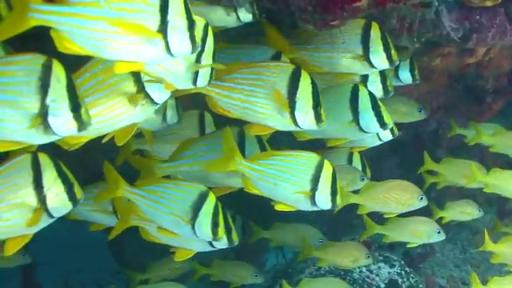Fish: (0, 0, 199, 63), (173, 61, 325, 134), (96, 162, 231, 240), (58, 59, 170, 149), (0, 53, 91, 151), (130, 127, 269, 191), (0, 152, 83, 255), (109, 198, 238, 261), (115, 16, 223, 91), (264, 19, 399, 74), (232, 151, 341, 211), (294, 84, 393, 143), (120, 110, 215, 160), (140, 227, 238, 261), (342, 180, 427, 217), (360, 216, 446, 247), (65, 181, 118, 230), (419, 152, 487, 189), (316, 148, 371, 191), (311, 71, 394, 98), (190, 0, 259, 31), (249, 223, 326, 250), (298, 241, 372, 268), (326, 124, 399, 151), (193, 260, 264, 287), (128, 256, 191, 285), (216, 43, 288, 66), (317, 148, 371, 177), (465, 124, 511, 156), (139, 98, 183, 131), (470, 163, 511, 198), (381, 95, 427, 123), (478, 229, 511, 266), (431, 200, 483, 223), (448, 119, 506, 139), (333, 165, 369, 191), (388, 57, 419, 86), (470, 272, 511, 287), (0, 250, 31, 268), (296, 277, 351, 287), (492, 219, 511, 234), (0, 0, 12, 21), (136, 282, 186, 287), (0, 42, 12, 57)
